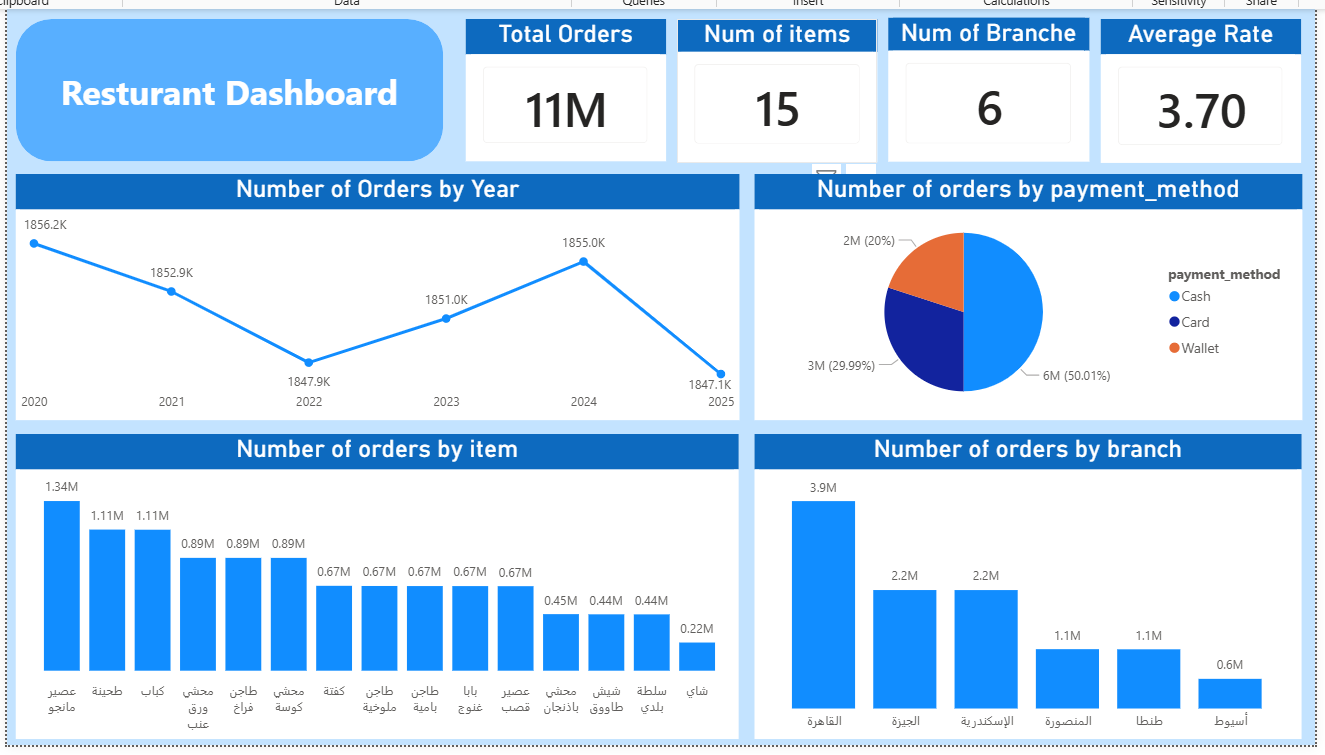

The dashboard page shown, as its layout file describes it:
{"tool":"powerbi","page":{"name":"Page 1","canvas":[1280,720],"ordinal":0},"visuals":[{"type":"cardVisual","title":"Total Orders","fields":{"Data":["_Measures.Number of orders"]},"box":[448.8,10,195.7,139.4],"z":0},{"type":"cardVisual","title":"Num of items","fields":{"Data":["_Measures.Number of Items"]},"box":[655.1,10.2,196.2,140],"z":1000},{"type":"cardVisual","title":"Num of Branche","fields":{"Data":["_Measures.Number of branches"]},"box":[862,8.8,196.9,140.6],"z":2000},{"type":"cardVisual","title":"Average Rate","fields":{"Data":["_Measures.Average Rating"]},"box":[1069.5,10,195.7,140.6],"z":3000},{"type":"lineChart","title":"Number of Orders by Year","fields":{"Category":["final_restaurant_data.year"],"Y":["_Measures.Number of orders"]},"box":[8.6,161.4,708,240.9],"z":4000},{"type":"clusteredColumnChart","fields":{"Y":["_Measures.Number of orders"],"Category":["final_restaurant_data.branch"]},"box":[731.2,416.2,535,298.8],"z":5000},{"type":"clusteredColumnChart","title":"Number of orders by item","fields":{"Category":["final_restaurant_data.item_name"],"Y":["_Measures.Number of orders"]},"box":[8.8,416.2,707.5,298.8],"z":6000},{"type":"pieChart","fields":{"Y":["_Measures.Number of orders"],"Category":["final_restaurant_data.payment_method"]},"box":[731.3,161.4,535.6,240.9],"z":7000},{"type":"shape","box":[8.6,9.8,418.2,139.4],"z":8000}]}

Visuals, with their boxes on the page's 1280x720 design canvas (x1, y1, x2, y2). These are canvas units, not pixel positions in the 1325x755 screenshot, which may show the page scaled, cropped or inside an application window:
"Total Orders" cardVisual: box=[449, 10, 644, 149]
"Num of items" cardVisual: box=[655, 10, 851, 150]
"Num of Branche" cardVisual: box=[862, 9, 1059, 149]
"Average Rate" cardVisual: box=[1070, 10, 1265, 151]
"Number of Orders by Year" lineChart: box=[9, 161, 717, 402]
clusteredColumnChart - _Measures.Number of orders x final_restaurant_data.branch: box=[731, 416, 1266, 715]
"Number of orders by item" clusteredColumnChart: box=[9, 416, 716, 715]
pieChart - _Measures.Number of orders x final_restaurant_data.payment_method: box=[731, 161, 1267, 402]
shape: box=[9, 10, 427, 149]
